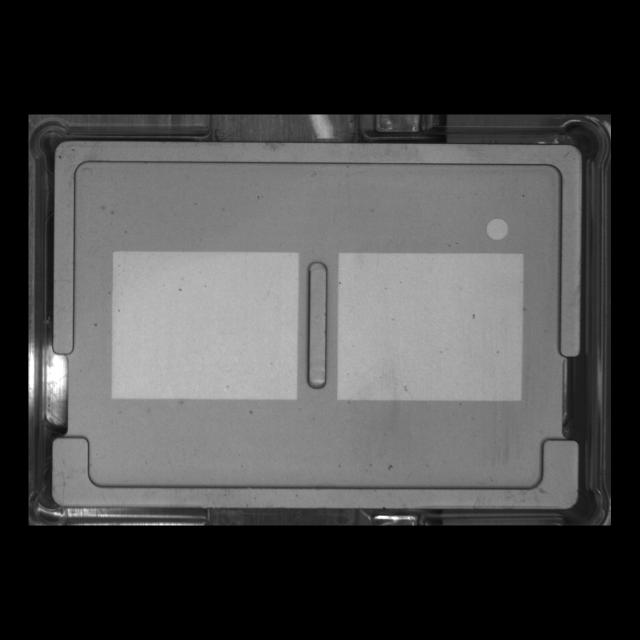door: (46, 424, 588, 517)
point: (484, 213, 514, 245)
